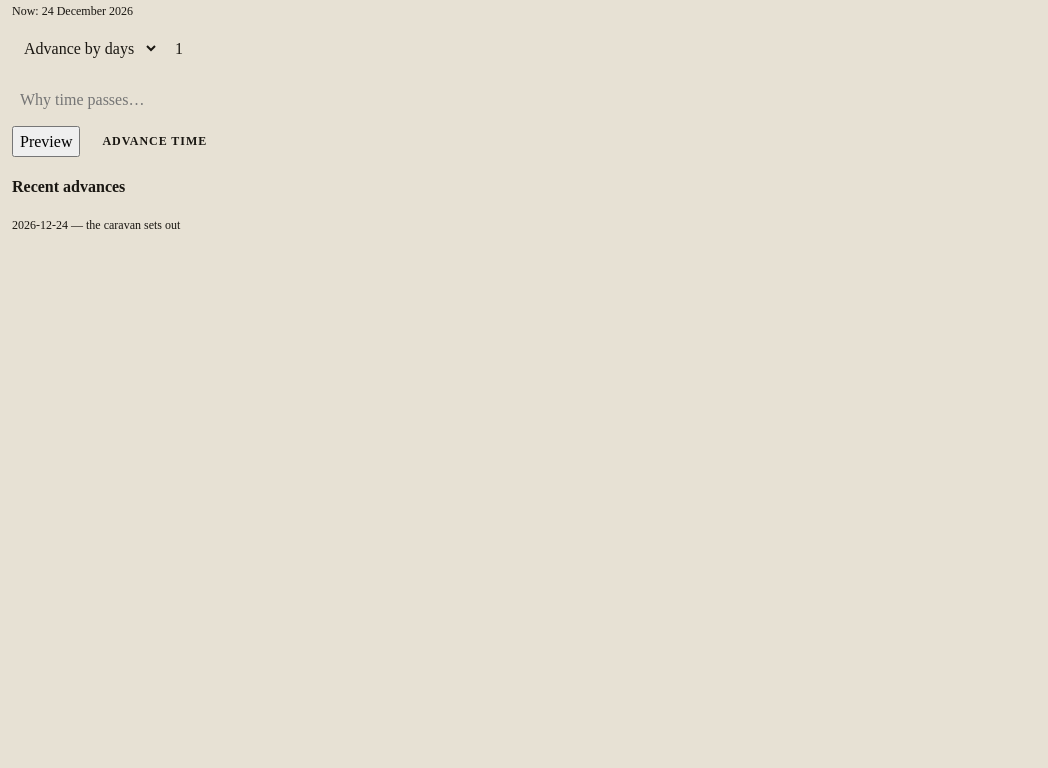
Test case: an ordinary refusal leaves the preview standing
expect the text "Now: 24 December 2026" is shown: met, box [12, 4, 133, 18]
Replace the text in the number field named "Days" with "3" at (602, 48), box [167, 31, 1036, 66]
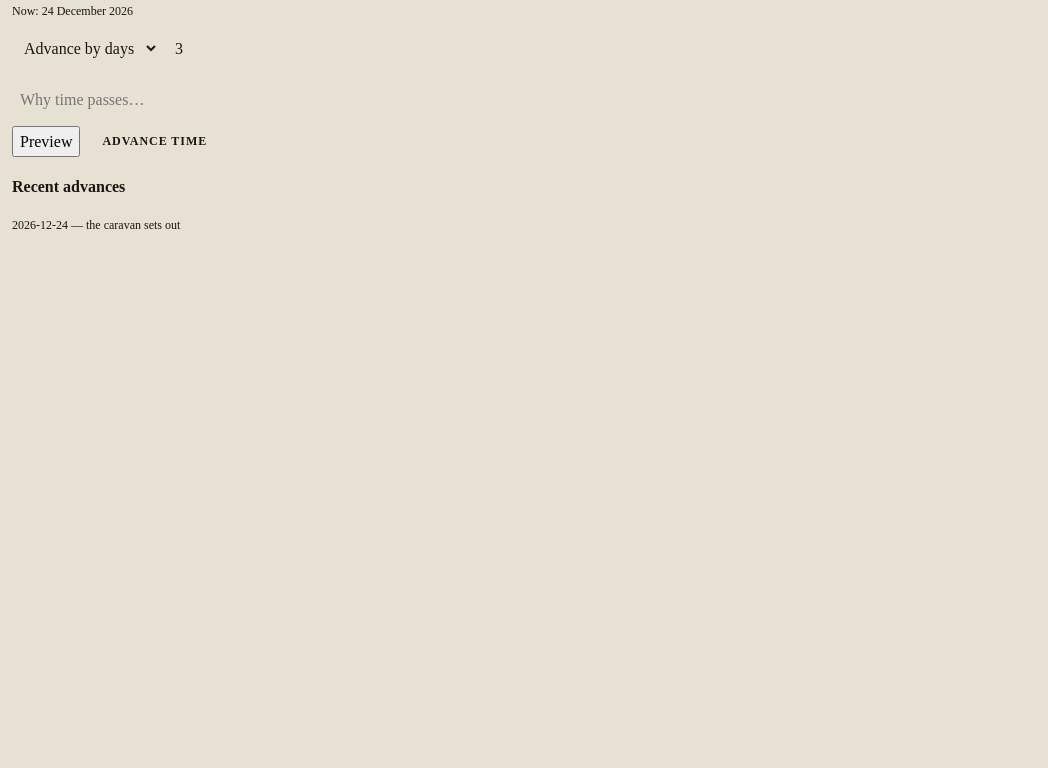
Type "a season passes" into the field named "Reason" at (120, 100), box [12, 86, 228, 114]
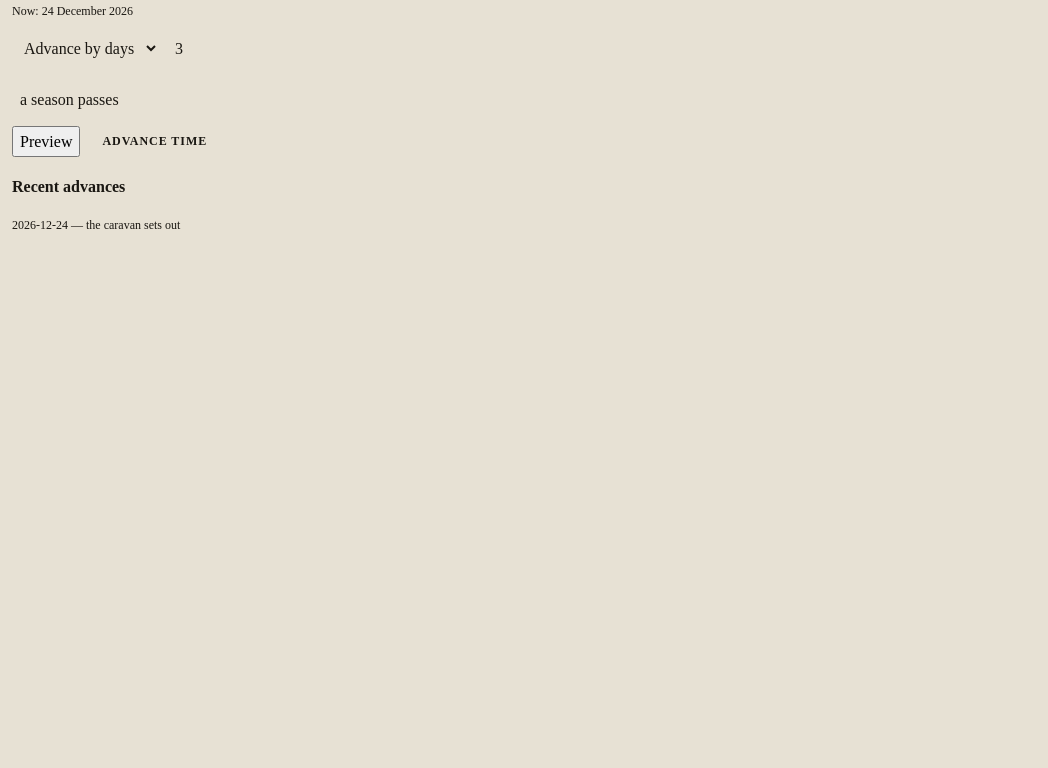
Click the button "Advance time" at (155, 142), box [88, 126, 221, 157]
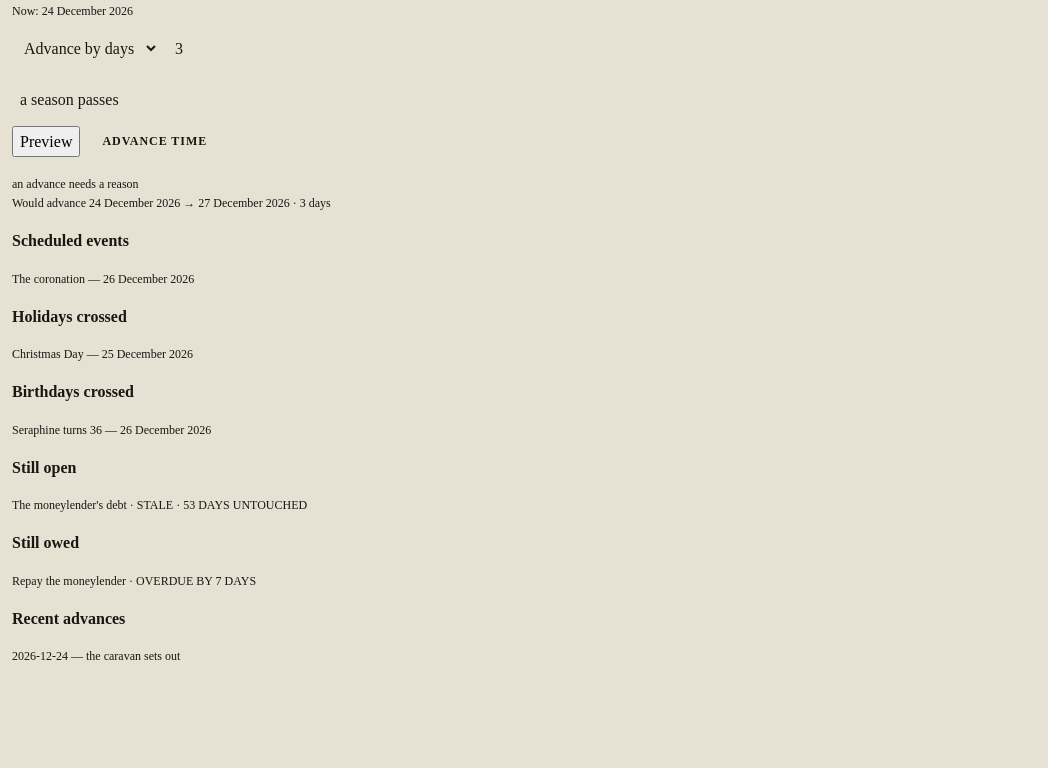
expect the text "an advance needs a reason" is shown: met, box [12, 177, 139, 191]
expect the text "Would advance 24 December 2026 → 27 December 2026 · 3 days" is shown: met, box [12, 196, 331, 210]
